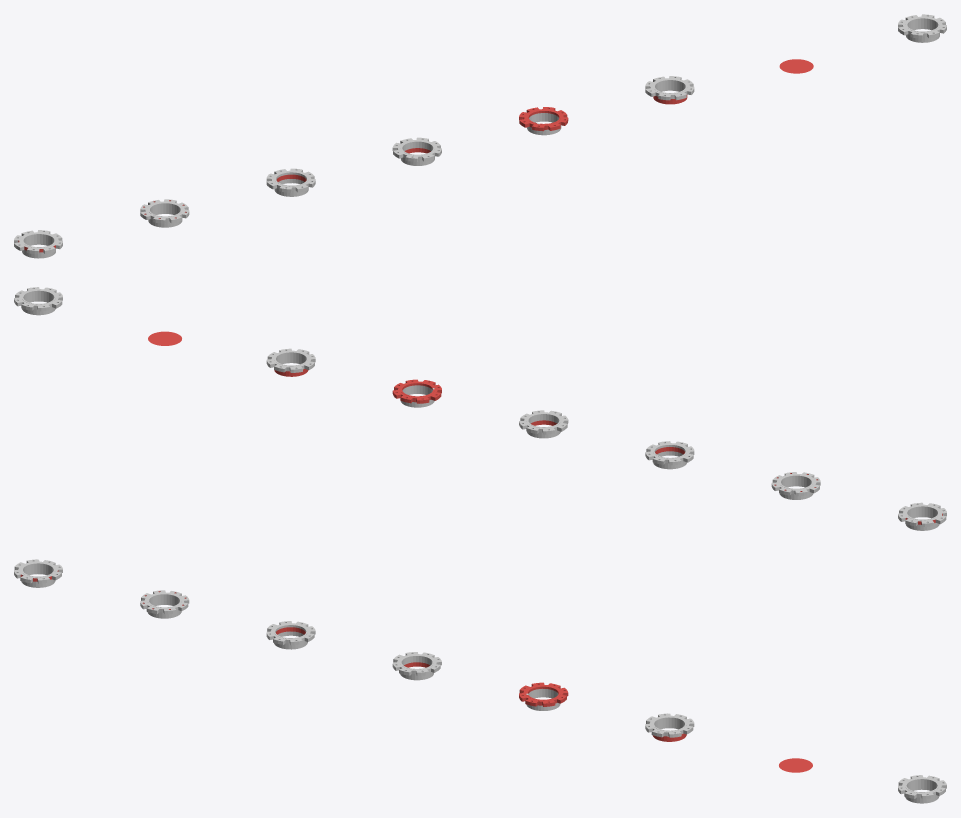
Rendered from Mast Nut.fbx.
3 views of the same model, one above another, from view 1: azimuth 30°, elevation 25°; view 2: azimuth 150°, elevation 25°; view 3: azimuth 330°, elevation 25° (orthographic).
Parts seen in each view (by area): view 1: 6.006, 6.003, 6.007, 6.002, 6.005, 6.009, 6; view 2: 6.005, 6.002, 6, 6.003, 6.006, 6.009, 6.007; view 3: 6.002, 6.009, 6.003, 6.006, 6.007, 6.005, 6.
Part boxes in pixels (x1,y1,x2,y2): 6.006: [266, 168, 315, 196]; 6.003: [519, 107, 568, 135]; 6.007: [140, 199, 189, 227]; 6.002: [645, 76, 694, 104]; 6.005: [392, 137, 441, 165]; 6.009: [14, 230, 62, 258]; 6: [898, 14, 946, 42]; 6.005: [519, 410, 568, 438]; 6.002: [266, 348, 315, 376]; 6: [14, 287, 62, 315]; 6.003: [392, 379, 441, 407]; 6.006: [645, 441, 694, 469]; 6.009: [898, 502, 946, 530]; 6.007: [771, 472, 820, 499]; 6.002: [645, 713, 694, 741]; 6.009: [14, 559, 62, 587]; 6.003: [519, 682, 568, 710]; 6.006: [266, 621, 315, 649]; 6.007: [140, 590, 189, 618]; 6.005: [392, 652, 441, 680]; 6: [898, 775, 946, 803].
Size of the model in its own units: 734 by 8.11 by 33.88.
